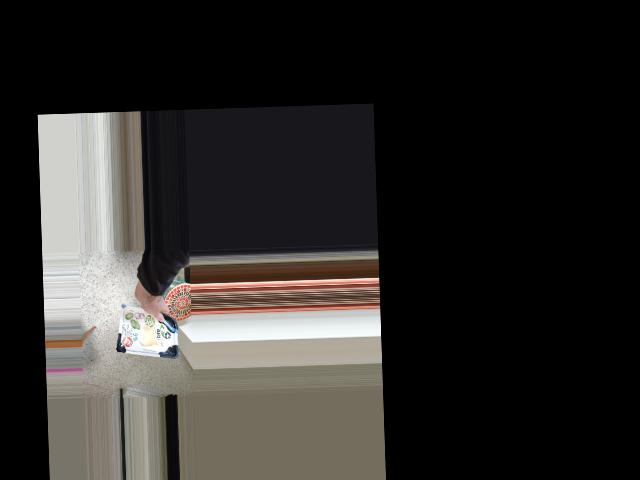cheese: (116, 294, 167, 344)
